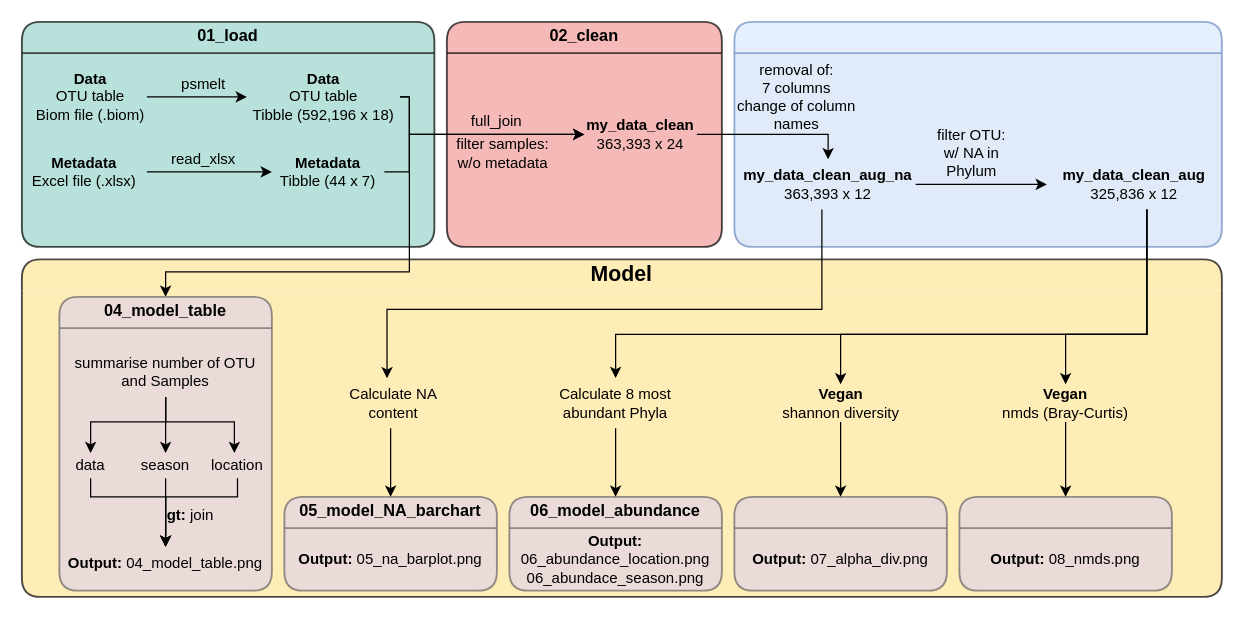
The diagram is 1245 pixels wide and 620 high, and some of its shapes have lost their labels. The shapes that lost their labels are listed below. From the top down, each one's box as (x1, y1, x2, y2) in pixels, then its label:
(733, 20, 1222, 247): 03_augment
(733, 495, 947, 591): 07_model_alphadiversity
(958, 495, 1172, 591): 08_model_nmds
